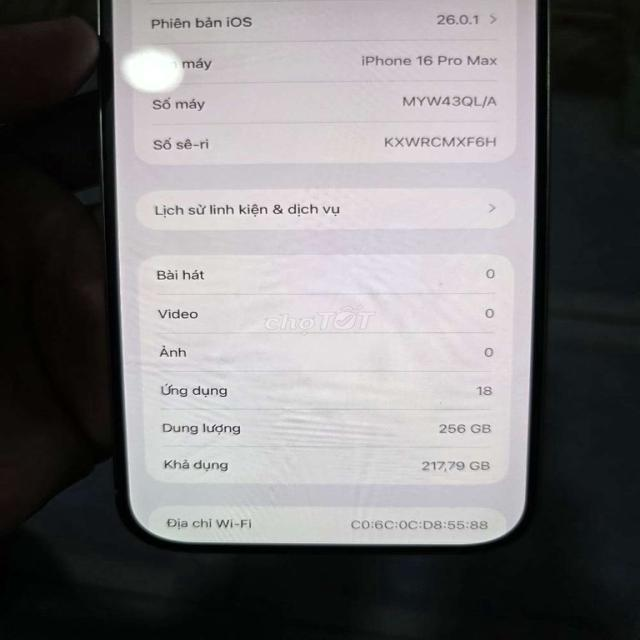gen_16: (100, 0, 548, 549)
